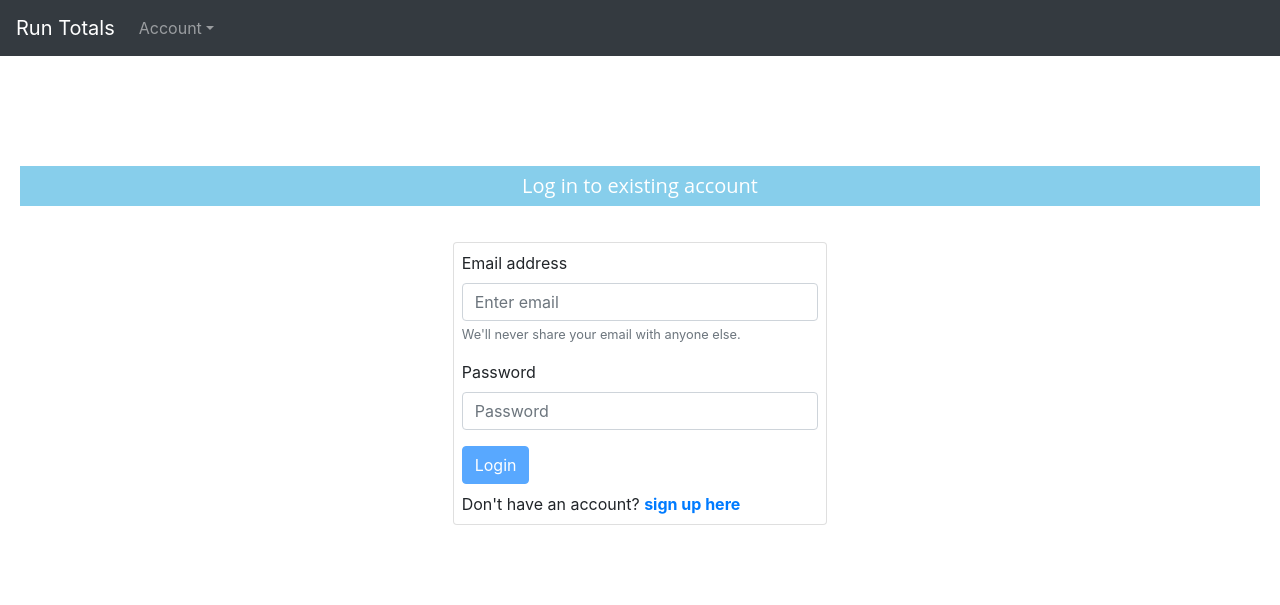
Test: Login page tests › Server side validation › should show general error message
The image size is (1280, 605).
Step 1. Type "valid@email.com" into the field with test id "email-input" → {"x": 640, "y": 302}, box x1=462 y1=283 x2=818 y2=321
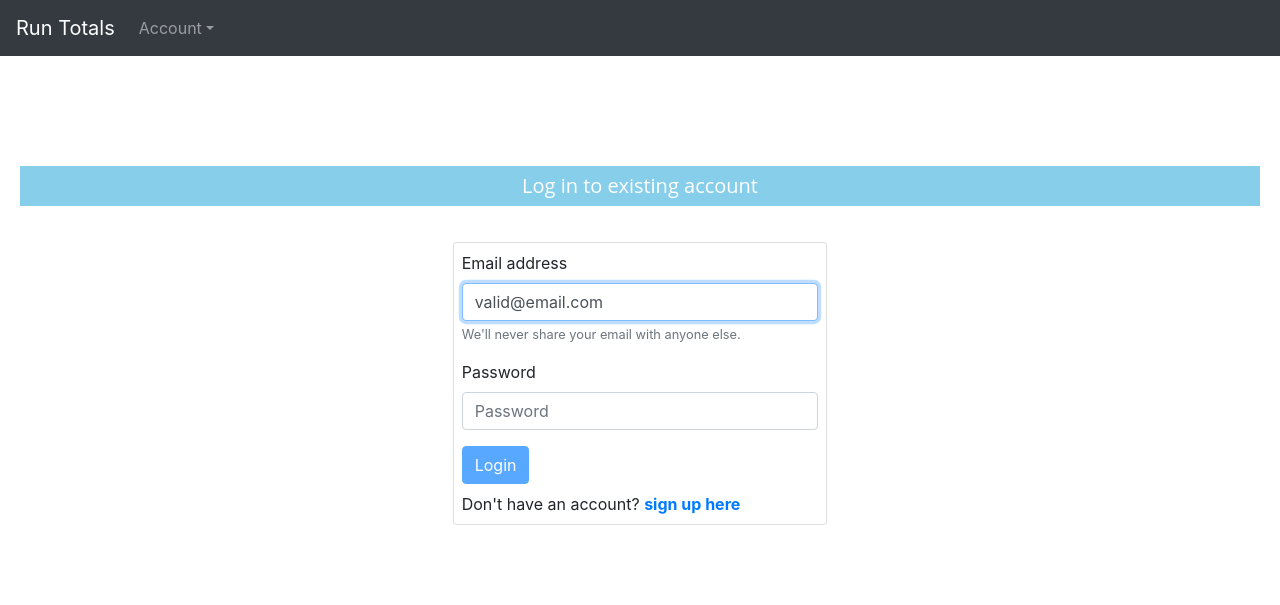
Step 2. Type "validPassw0rd" into the password field with test id "password-input" → {"x": 640, "y": 411}, box x1=462 y1=392 x2=818 y2=430
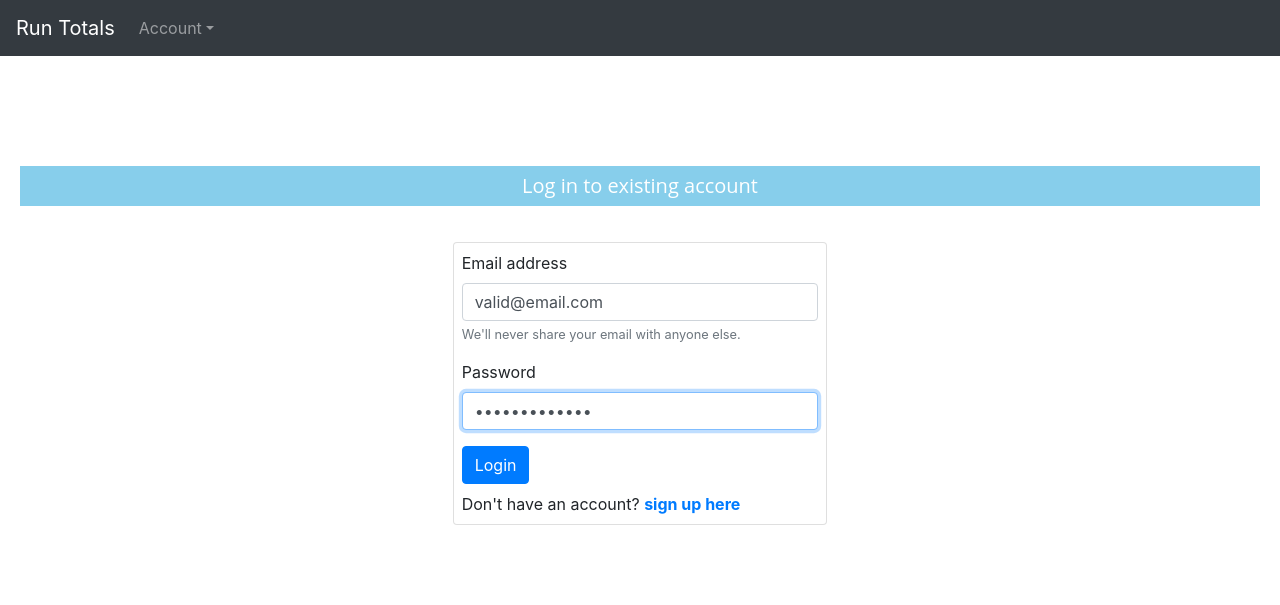
Step 3. Click the button "Login" → {"x": 496, "y": 465}, box x1=462 y1=446 x2=530 y2=484
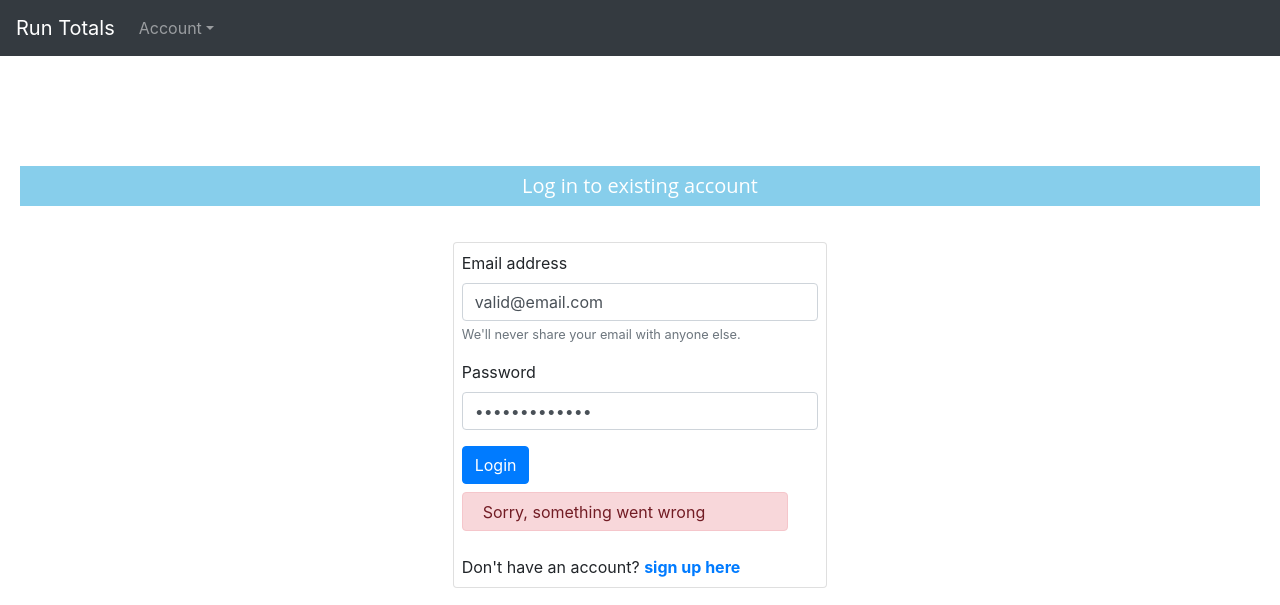
Expected: the message "Sorry, something went wrong" is shown, x1=462 y1=492 x2=788 y2=531
Expected: the message reads "Sorry, something went wrong", x1=483 y1=502 x2=705 y2=522
